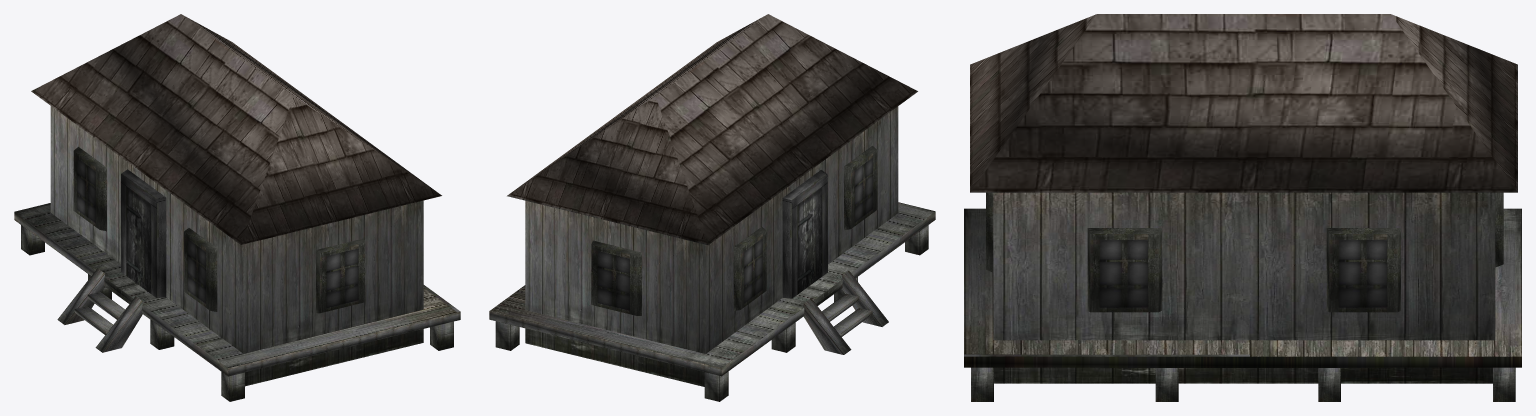
Rendered from house3-03.obj.
3 renders of one model, left to right at view 1: azimuth 30°, elevation 25°; view 2: azimuth 150°, elevation 25°; view 3: azimuth 270°, elevation 25°, orthographic. The views are drawn at different scales.
Size of the model in its own units: 6.04 by 5.17 by 8.2.
1 material, 1 textured.
